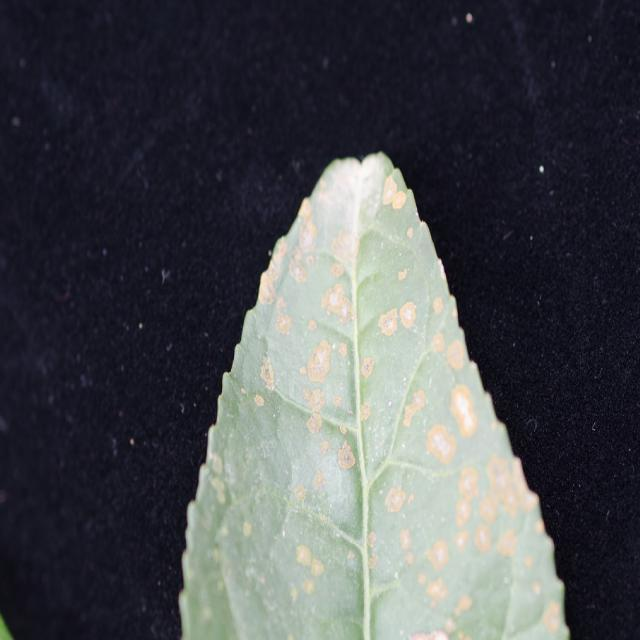Tea algae leaf spot: (240, 155, 547, 596)
